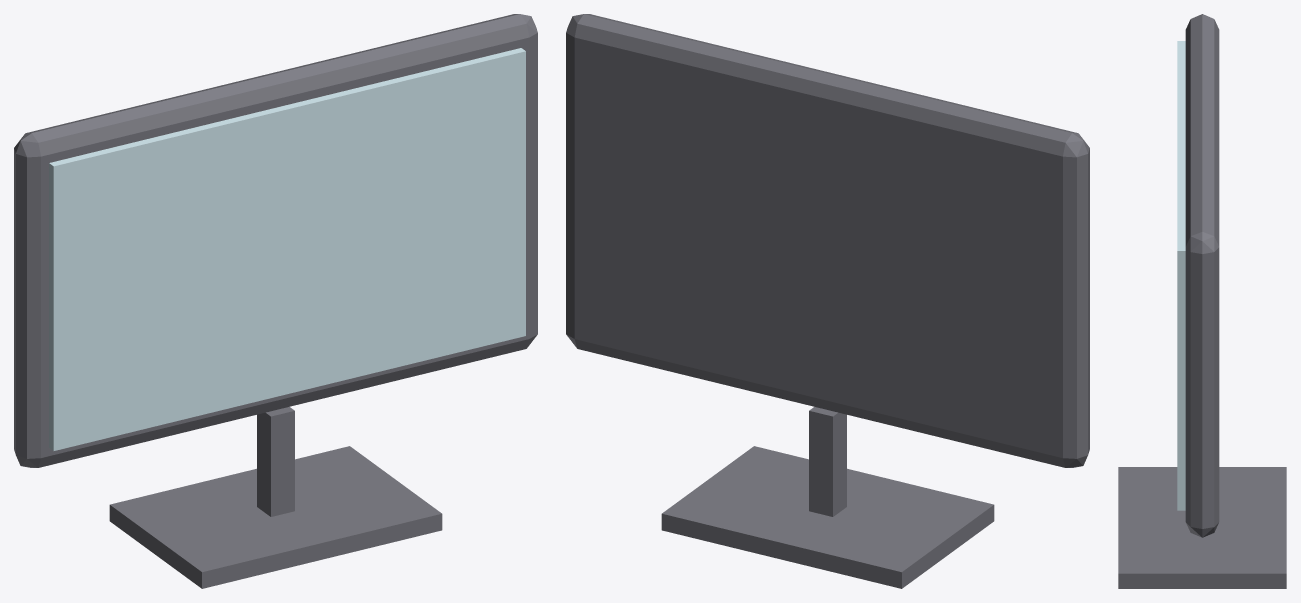
Rendered from cozy-home-interiors-computer-monitor-3e762133.glb.
3 views of the same model, side by side, from view 1: azimuth 30°, elevation 25°; view 2: azimuth 150°, elevation 25°; view 3: azimuth 270°, elevation 25° (orthographic). The views are drawn at different scales.
Parts seen in each view (by area): view 1: computer-monitor; view 2: computer-monitor; view 3: computer-monitor.
Boxes of the visible parts, x1,y1,x2,y2 form: computer-monitor: (14, 14, 537, 588); computer-monitor: (566, 14, 1089, 588); computer-monitor: (1118, 14, 1286, 588).
Size of the model in its own units: 0.65 by 0.54 by 0.2.
